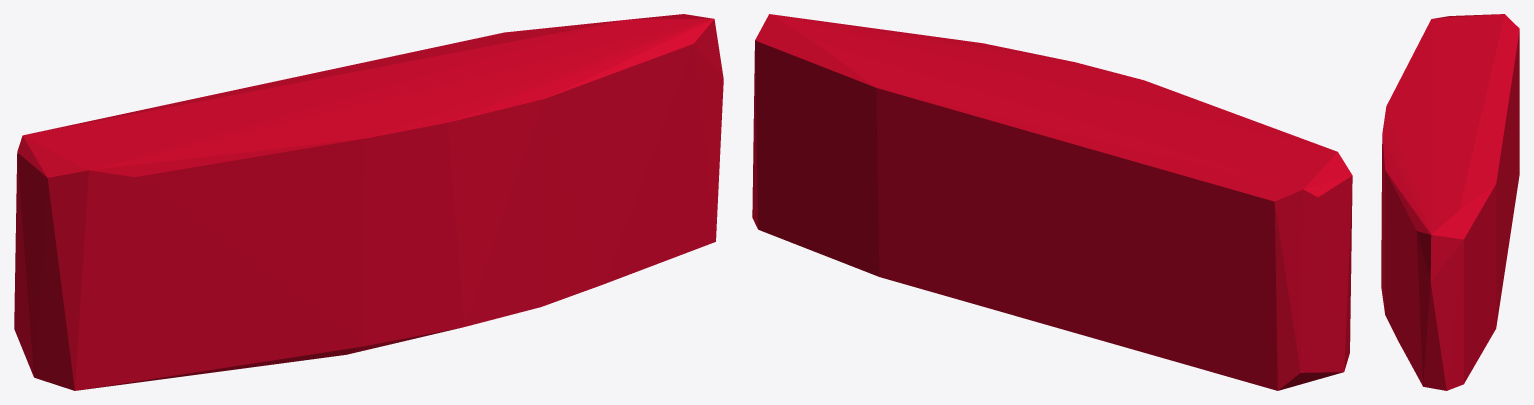
Rendered from model8_convex_piece_000.obj.
3 renders of one model, left to right at view 1: azimuth 30°, elevation 25°; view 2: azimuth 150°, elevation 25°; view 3: azimuth 270°, elevation 25°, orthographic. The views are drawn at different scales.
Bounding box in the file's own units: 0.0553 × 0.0177 × 0.0142.
